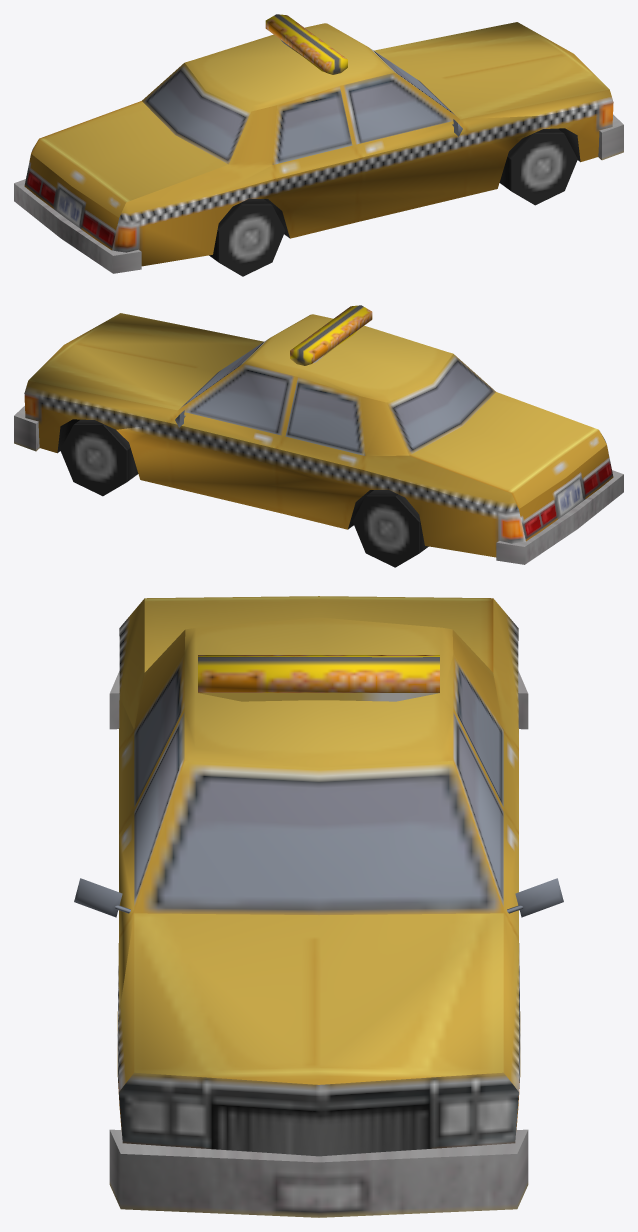
Rendered from fhqDiecast18CarNormalLights.fbx.
3 renders of one model, top to bottom at view 1: azimuth 30°, elevation 25°; view 2: azimuth 150°, elevation 25°; view 3: azimuth 270°, elevation 25°, orthographic. The views are drawn at different scales.
Visible parts, largest first — view 1: Vehicles_CarNormalLights; view 2: Vehicles_CarNormalLights; view 3: Vehicles_CarNormalLights.
Part boxes in pixels (<box>): Vehicles_CarNormalLights: <box>14,14,623,276</box>; Vehicles_CarNormalLights: <box>14,305,623,567</box>; Vehicles_CarNormalLights: <box>74,596,563,1217</box>.
Size of the model in its own units: 0.5172 by 0.1671 by 0.21.
